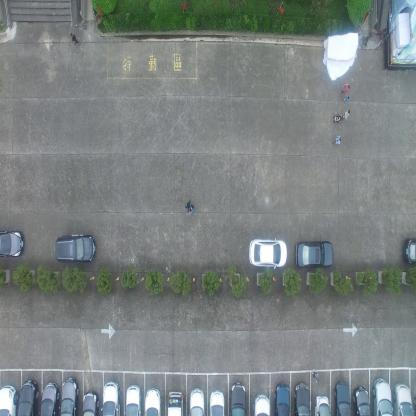car: (248, 235, 288, 269), (54, 235, 96, 262), (295, 239, 334, 268), (16, 378, 38, 416), (58, 375, 78, 415), (373, 376, 393, 416), (0, 229, 25, 259), (100, 380, 120, 416), (39, 380, 59, 416), (394, 381, 414, 415), (228, 382, 246, 415), (123, 384, 141, 416), (0, 383, 18, 415), (293, 382, 310, 415), (273, 383, 290, 415), (334, 381, 350, 415), (143, 386, 161, 416), (79, 389, 98, 415), (353, 386, 370, 415), (187, 388, 204, 415), (402, 236, 416, 267), (166, 389, 182, 415), (208, 390, 224, 415), (314, 392, 330, 416), (252, 395, 270, 415)
